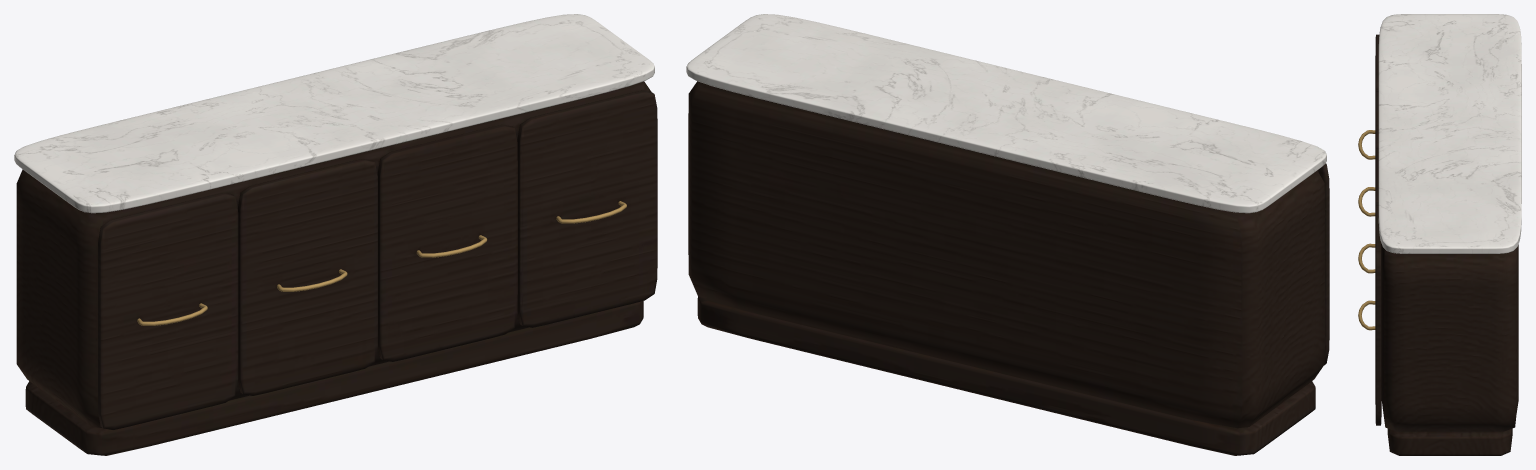
Rendered from ebony-sideboard.glb.
3 views of the same model, side by side, from view 1: azimuth 30°, elevation 25°; view 2: azimuth 150°, elevation 25°; view 3: azimuth 270°, elevation 25° (orthographic). The views are drawn at different scales.
Parts seen in each view (by area): view 1: wood_h, marble_top, brass_handle; view 2: wood_h, marble_top; view 3: marble_top, wood_h, brass_handle.
Part boxes in pixels (x1,y1,x2,y2): wood_h: (16, 81, 657, 455); marble_top: (14, 14, 654, 213); brass_handle: (137, 201, 626, 325); wood_h: (688, 81, 1329, 455); marble_top: (686, 14, 1326, 213); marble_top: (1378, 14, 1521, 253); wood_h: (1375, 34, 1518, 455); brass_handle: (1358, 130, 1375, 330).
Bounding box in the file's own units: 1.82 × 0.778 × 0.5369.
Materials: 3 (3 with a texture image).
